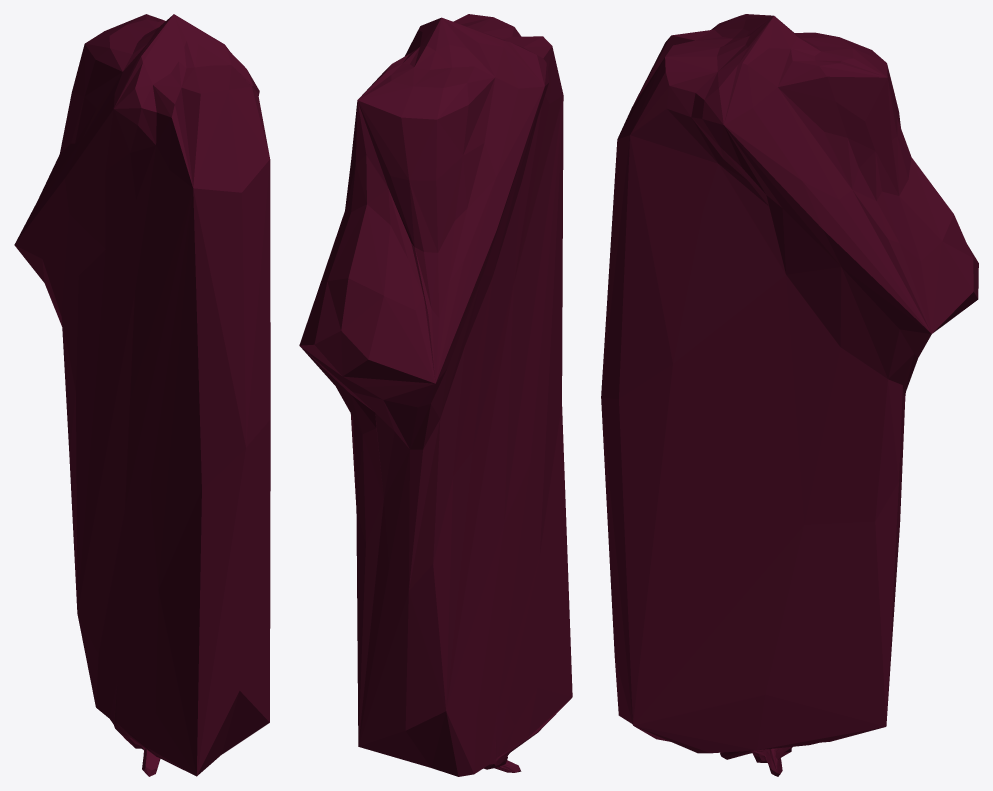
The picture shows the model from 3 angles, left to right: view 1: azimuth 30°, elevation 25°; view 2: azimuth 150°, elevation 25°; view 3: azimuth 270°, elevation 25°; orthographic projection. The views are drawn at different scales.
Parts seen in each view (by area): view 1: 327_Cube.1338; view 2: 327_Cube.1338; view 3: 327_Cube.1338.
Part boxes in pixels (x1,y1,x2,y2): 327_Cube.1338: (14,14,270,776); 327_Cube.1338: (299,14,572,776); 327_Cube.1338: (601,14,978,776).
Bounding box in the file's own units: 2.8 × 13.6 × 6.09.
